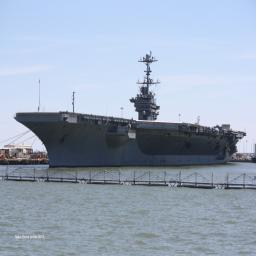Portanaves: (14, 44, 249, 171)
